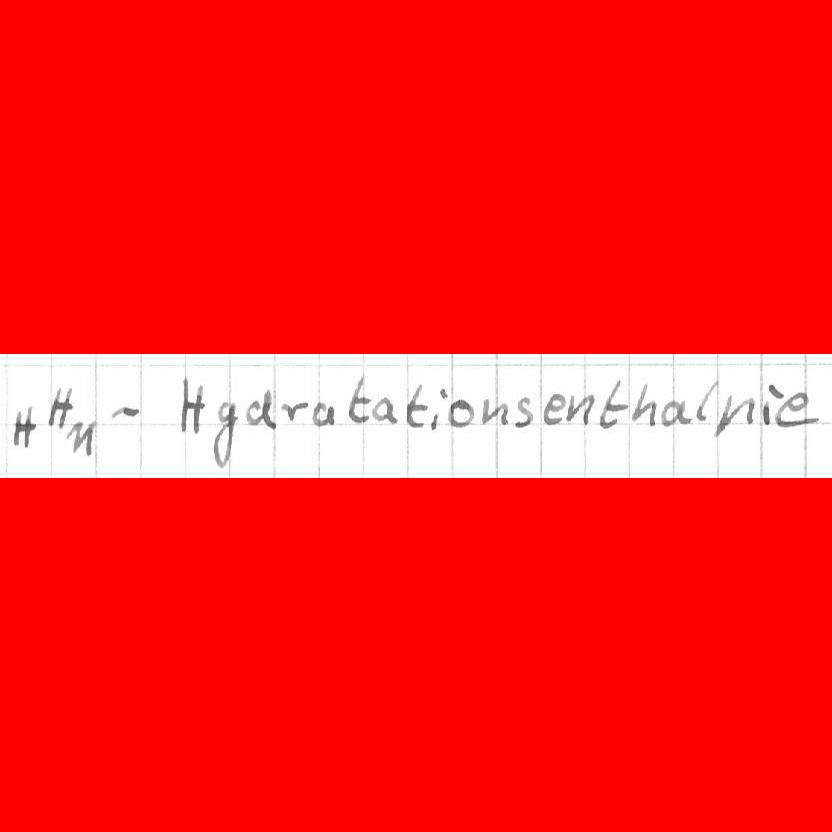Char: (209, 400, 238, 467), (715, 390, 753, 437), (178, 378, 205, 436), (781, 390, 819, 426), (599, 377, 625, 429), (63, 417, 98, 455), (10, 402, 36, 449), (47, 384, 73, 430), (564, 390, 595, 427), (630, 381, 656, 425), (247, 389, 275, 429), (346, 379, 369, 424), (406, 382, 428, 428), (761, 383, 781, 429), (659, 398, 690, 427), (480, 396, 507, 428), (694, 383, 715, 424), (371, 396, 398, 426), (542, 391, 564, 426), (448, 397, 472, 428), (310, 400, 336, 427), (280, 398, 307, 423), (514, 395, 534, 428), (430, 390, 445, 430), (109, 402, 140, 421)
